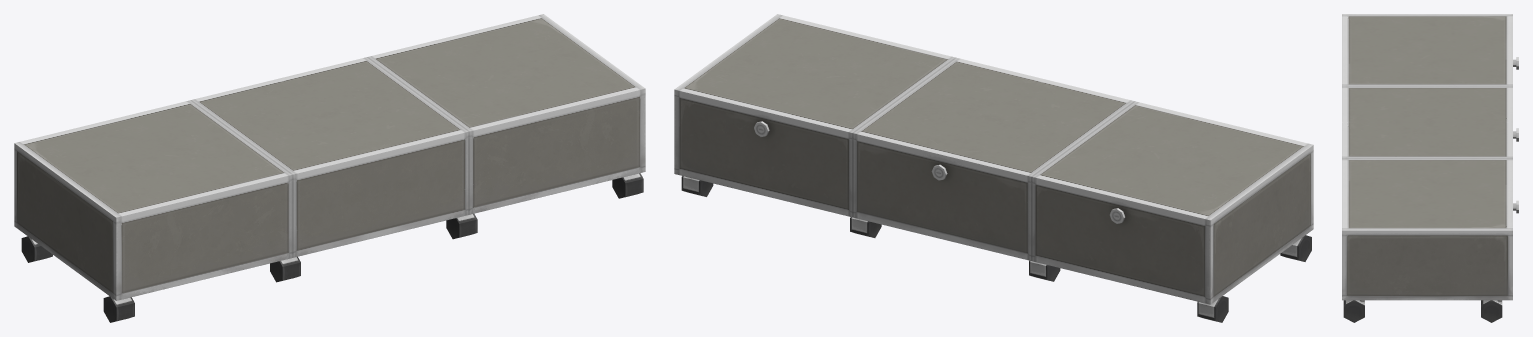
Rendered from P_Cabinet_010_S1_M02.obj.
3 renders of one model, left to right at view 1: azimuth 30°, elevation 25°; view 2: azimuth 150°, elevation 25°; view 3: azimuth 270°, elevation 25°, orthographic. The views are drawn at different scales.
Bounding box in the file's own units: 3 × 0.6 × 1.03.
Materials: 1 (1 with a texture image).
